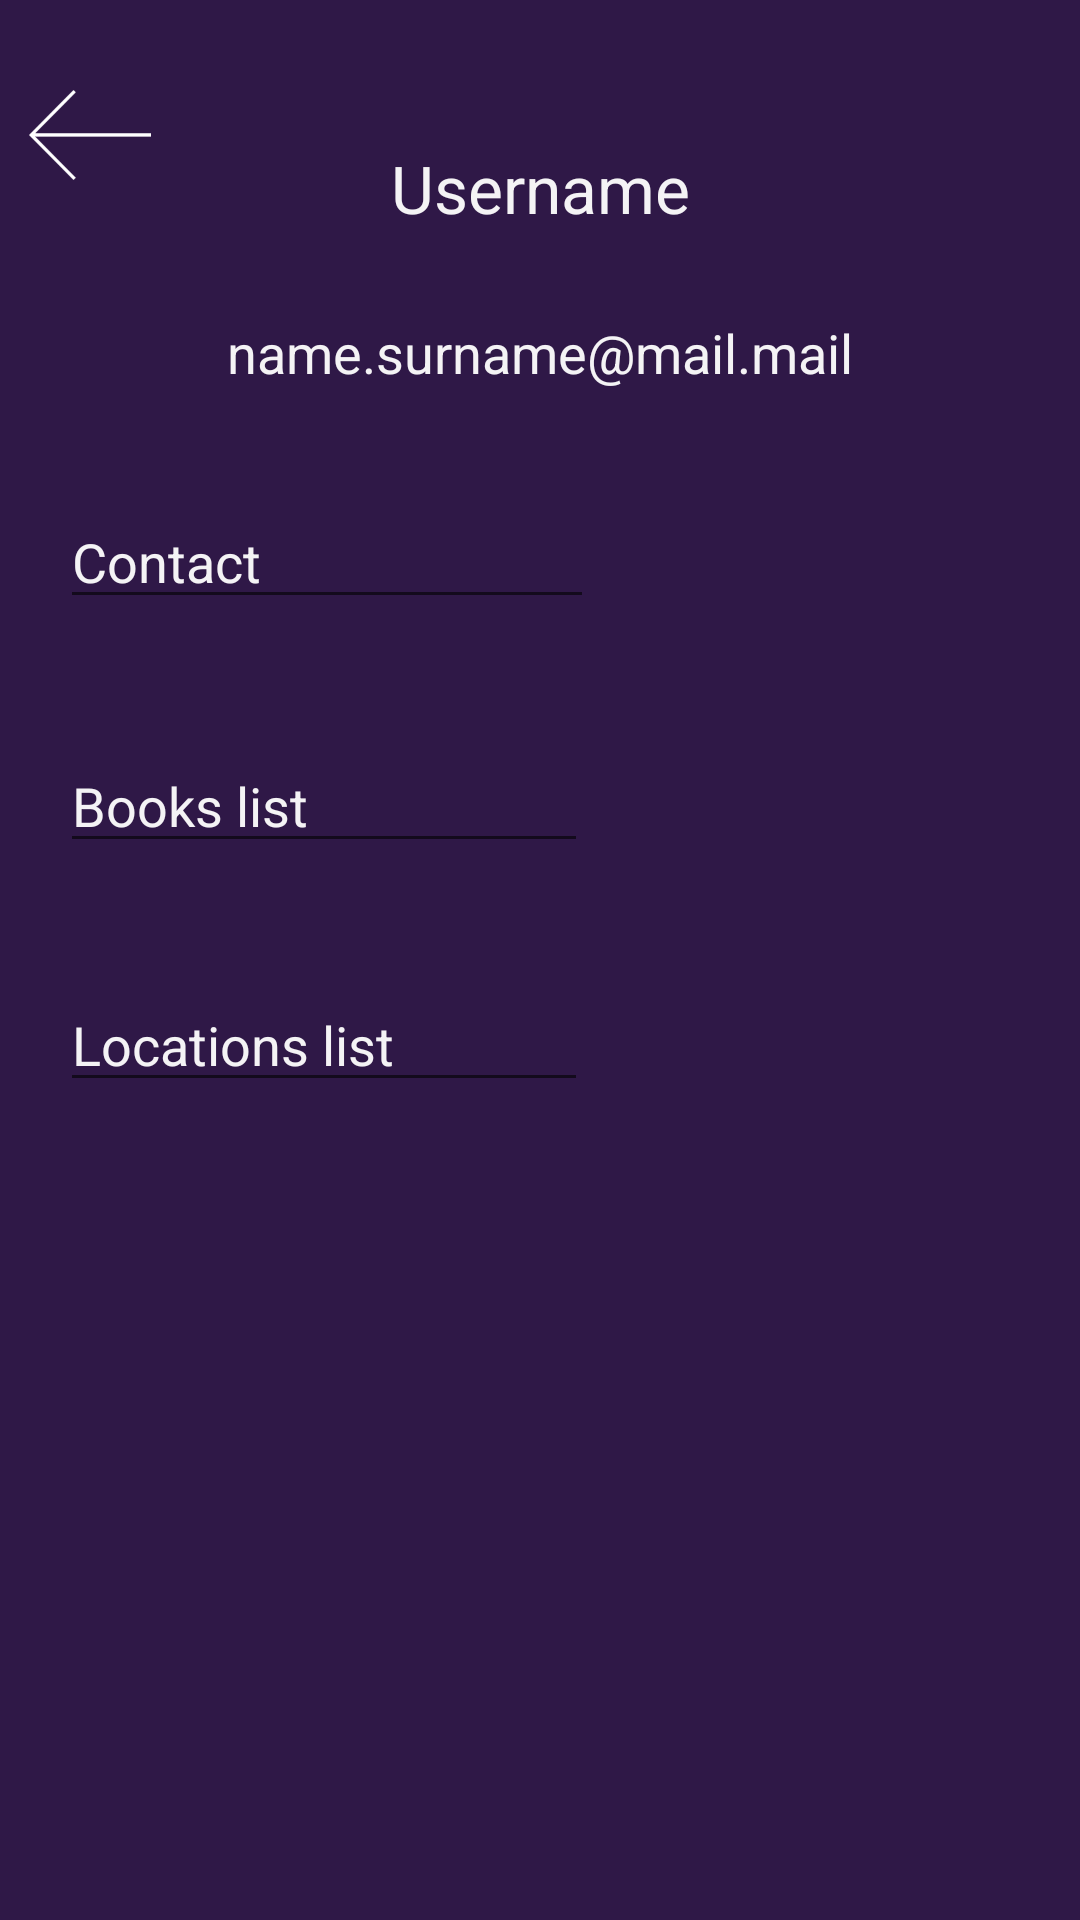

Icon click points for this 1080px×1920px phone screenshot, format [x,y]:
arrow: [90,135]
